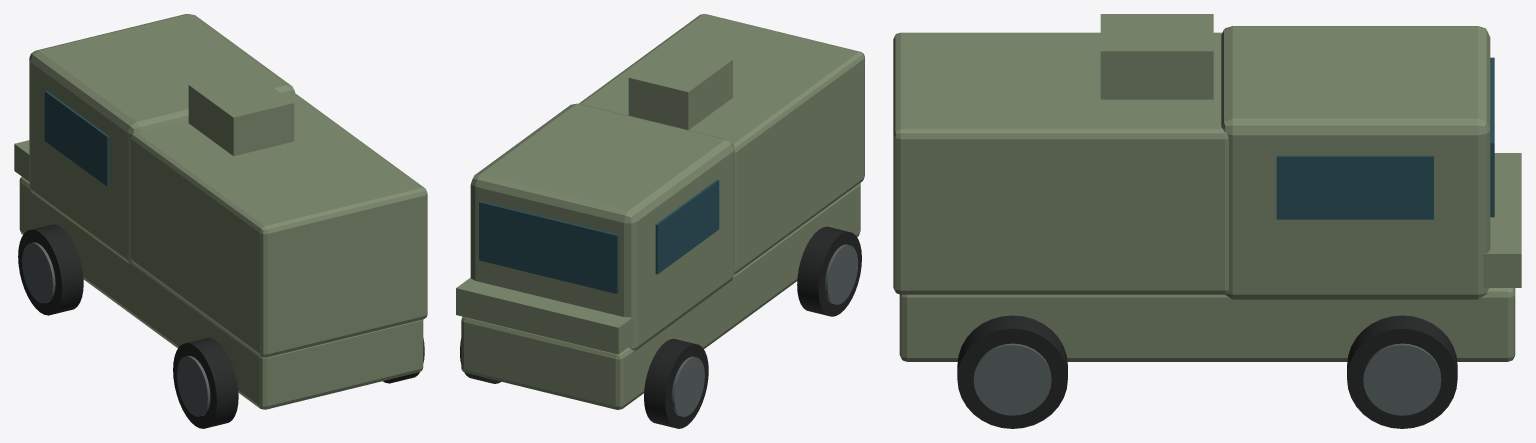
The picture shows the model from 3 angles, left to right: view 1: azimuth 30°, elevation 25°; view 2: azimuth 150°, elevation 25°; view 3: azimuth 270°, elevation 25°; orthographic projection. The views are drawn at different scales.
Parts seen in each view (by area): view 1: Hull_MVP olive paint, RunningGear_MVP rubber, Hull_MVP optical glass, RunningGear_MVP exposed metal; view 2: Hull_MVP olive paint, Hull_MVP optical glass, RunningGear_MVP rubber, RunningGear_MVP exposed metal; view 3: Hull_MVP olive paint, RunningGear_MVP rubber, Hull_MVP optical glass, RunningGear_MVP exposed metal.
Part boxes in pixels (box(x1,y1,x2,y2)): Hull_MVP olive paint: box(14, 14, 427, 409); RunningGear_MVP rubber: box(18, 224, 424, 428); Hull_MVP optical glass: box(44, 90, 109, 186); RunningGear_MVP exposed metal: box(22, 242, 210, 416); Hull_MVP olive paint: box(456, 14, 864, 409); Hull_MVP optical glass: box(479, 179, 719, 293); RunningGear_MVP rubber: box(460, 226, 861, 428); RunningGear_MVP exposed metal: box(671, 244, 857, 416); Hull_MVP olive paint: box(893, 14, 1521, 361); RunningGear_MVP rubber: box(957, 315, 1457, 428); Hull_MVP optical glass: box(1276, 57, 1494, 219); RunningGear_MVP exposed metal: box(973, 343, 1441, 415).
Size of the model in its own units: 2.46 by 2.92 by 5.
